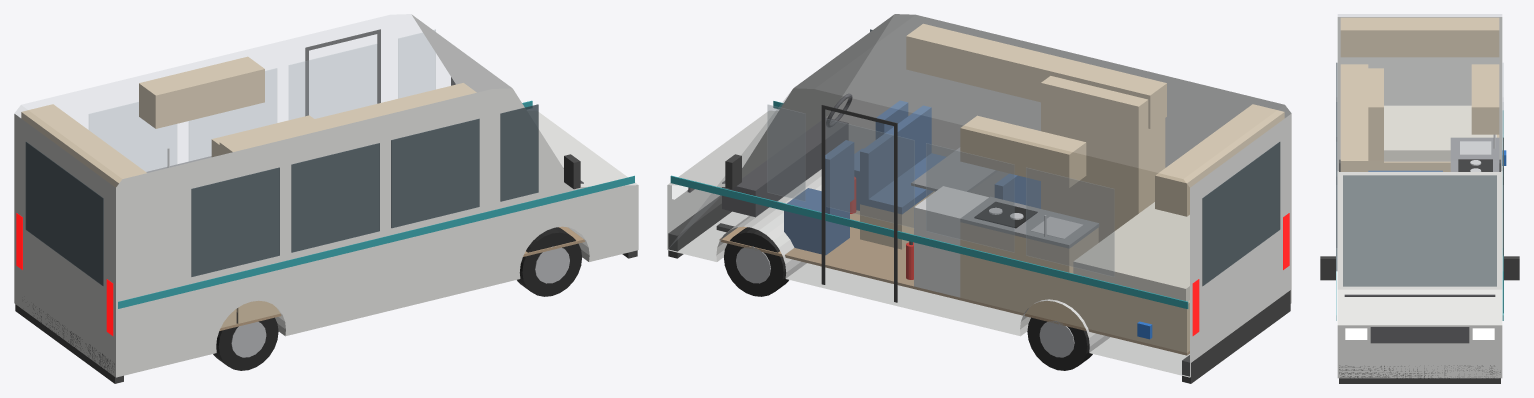
Rendered from force_urbania_3615wb.glb.
The picture shows the model from 3 angles, left to right: view 1: azimuth 30°, elevation 25°; view 2: azimuth 150°, elevation 25°; view 3: azimuth 270°, elevation 25°; orthographic projection. The views are drawn at different scales.
Parts seen in each view (by area): view 1: Body_Shell, Body_Cutaway_LeftWall_Roof, Window_Right_0, Window_Right_1, Window_Right_2, Window_Rear, Storage_Overhead_Left_Kitchen, Window_Left_0, Stripe_Right, Storage_Overhead_Rear, Window_Left_2, Storage_Overhead_Right (+11 smaller); view 2: Body_Cutaway_LeftWall_Roof, Body_Shell, Storage_Wardrobe_Tall, Storage_Overhead_Right, Kitchen_Base_Cabinets, Window_Left_1, Window_Left_2, Window_Left_0, Bed_Mattress_Double, Window_Rear, Storage_Overhead_Left_Kitchen, Bed_Platform_Fixed_Rear (+26 smaller); view 3: Body_Shell, Body_Cutaway_LeftWall_Roof, Windscreen, Storage_Overhead_Rear, Bed_Mattress_Double, Storage_Overhead_Right, Storage_Overhead_Left_Kitchen, Grille, Storage_Wardrobe_Tall, Bumper_Front, Kitchen_Countertop, Bed_Platform_Fixed_Rear (+7 smaller).
Boxes of the visible parts, box(x1,y1,x2,y2) form: Body_Shell: box(14, 14, 638, 377); Body_Cutaway_LeftWall_Roof: box(15, 14, 510, 186); Window_Right_0: box(391, 118, 479, 228); Window_Right_1: box(291, 143, 379, 252); Window_Right_2: box(191, 167, 279, 276); Window_Rear: box(25, 142, 103, 286); Storage_Overhead_Left_Kitchen: box(139, 56, 264, 128); Window_Left_0: box(289, 44, 376, 119); Stripe_Right: box(118, 175, 634, 308); Storage_Overhead_Rear: box(21, 104, 146, 187); Window_Left_2: box(89, 102, 176, 171); Storage_Overhead_Right: box(219, 83, 476, 155); Body_Cutaway_LeftWall_Roof: box(668, 14, 1290, 376); Body_Shell: box(667, 14, 1291, 377); Storage_Wardrobe_Tall: box(1041, 76, 1165, 242); Storage_Overhead_Right: box(906, 23, 1166, 128); Kitchen_Base_Cabinets: box(960, 222, 1098, 323); Window_Left_1: box(926, 143, 1014, 252); Window_Left_2: box(1026, 167, 1114, 276); Window_Left_0: box(826, 119, 914, 227); Bed_Mattress_Double: box(1073, 202, 1189, 301); Window_Rear: box(1202, 142, 1280, 286); Storage_Overhead_Left_Kitchen: box(960, 115, 1086, 187); Bed_Platform_Fixed_Rear: box(1069, 280, 1189, 352); Body_Shell: box(1337, 17, 1502, 378); Body_Cutaway_LeftWall_Roof: box(1338, 14, 1501, 171); Windscreen: box(1343, 175, 1496, 286); Storage_Overhead_Rear: box(1340, 17, 1499, 57); Bed_Mattress_Double: box(1384, 105, 1496, 161); Storage_Overhead_Right: box(1340, 64, 1368, 171); Storage_Overhead_Left_Kitchen: box(1471, 64, 1499, 134); Grille: box(1370, 327, 1469, 343); Storage_Wardrobe_Tall: box(1368, 68, 1383, 170); Bumper_Front: box(1339, 365, 1500, 383); Kitchen_Countertop: box(1450, 137, 1499, 171); Bed_Platform_Fixed_Rear: box(1384, 134, 1499, 171).
Bounding box in the file's own units: 6.24 × 2.55 × 2.54.
